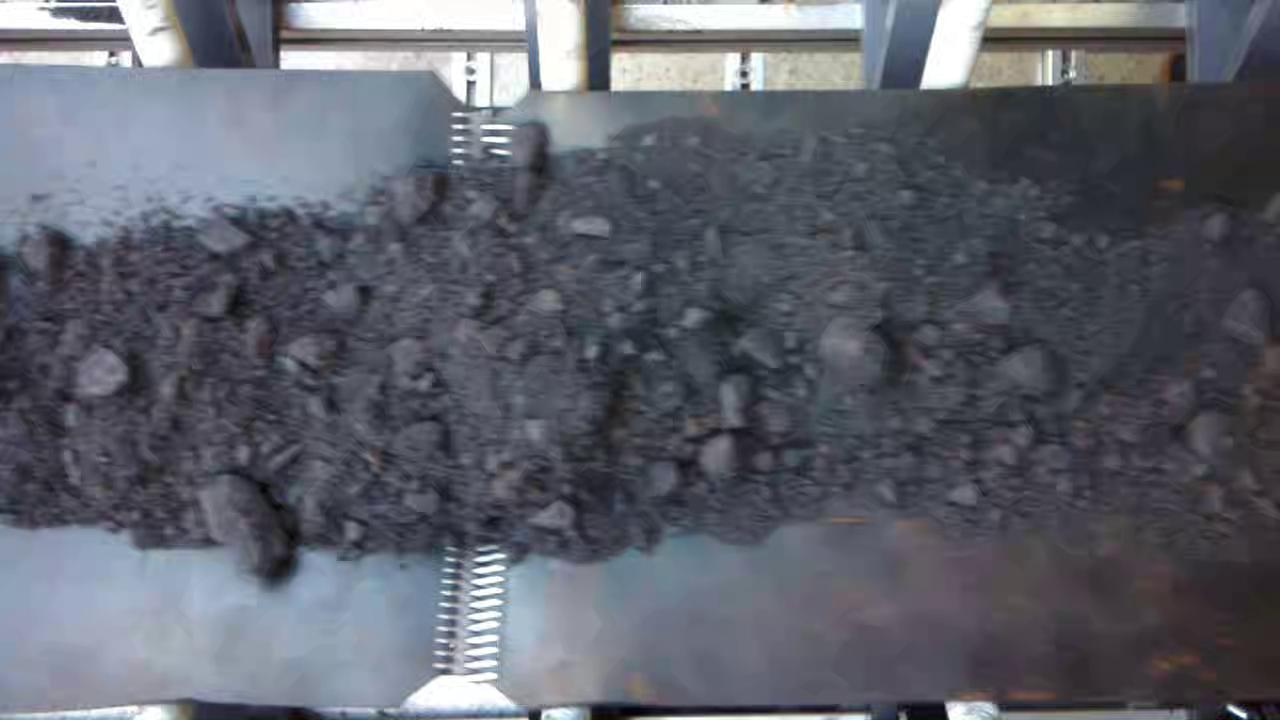conveyor: (1, 98, 1280, 693)
